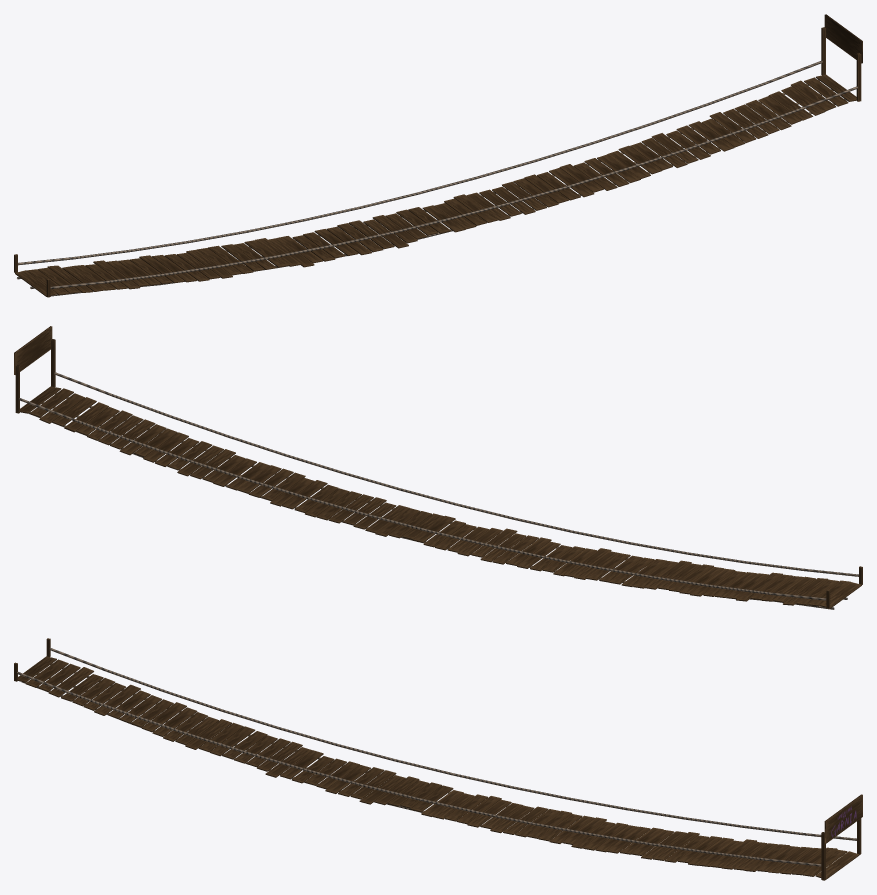
The model's file is Bridge01_Geo.fbx.
3 renders of one model, top to bottom at view 1: azimuth 30°, elevation 25°; view 2: azimuth 150°, elevation 25°; view 3: azimuth 330°, elevation 25°, orthographic.
Parts seen in each view (by area): view 1: Bridge011_Geo, Bridge012_Geo, Bridge013_Geo; view 2: Bridge011_Geo, Bridge012_Geo, Bridge013_Geo; view 3: Bridge011_Geo, Bridge012_Geo, Bridge013_Geo.
Part boxes in pixels (left/top/right/bottom): Bridge011_Geo: left=15, top=74, right=856, bottom=296; Bridge012_Geo: left=17, top=14, right=862, bottom=296; Bridge013_Geo: left=14, top=27, right=861, bottom=297; Bridge011_Geo: left=20, top=386, right=861, bottom=608; Bridge012_Geo: left=14, top=326, right=858, bottom=609; Bridge013_Geo: left=15, top=339, right=862, bottom=608; Bridge011_Geo: left=18, top=656, right=859, bottom=879; Bridge012_Geo: left=17, top=648, right=862, bottom=874; Bridge013_Geo: left=14, top=638, right=861, bottom=880.
Bounding box in the file's own units: 11813 × 1316 × 957.
